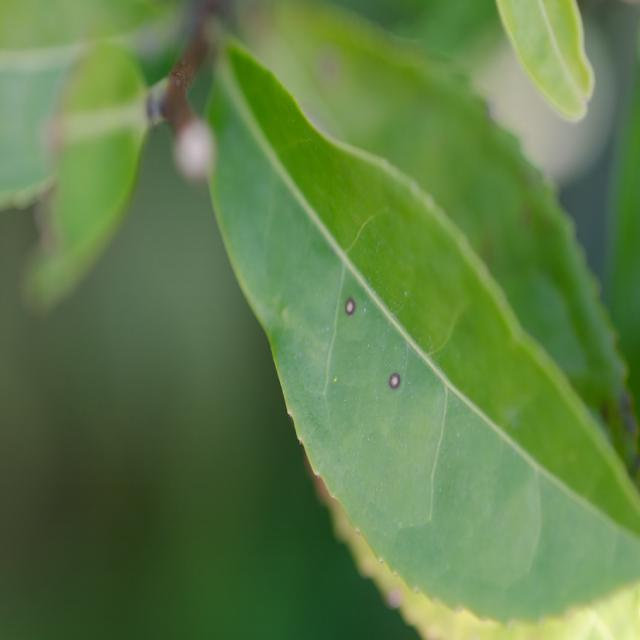Tea red scab: (385, 357, 408, 398), (345, 296, 360, 321)
